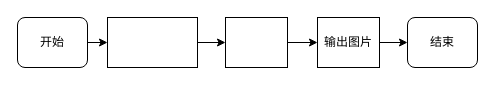
The diagram is 495 pixels wide and 85 high, and some of its shapes have lost their labels. The centre of each missing label's shape, as x and y in pixels:
场景解析: point (152, 42)
渲染: point (256, 42)
